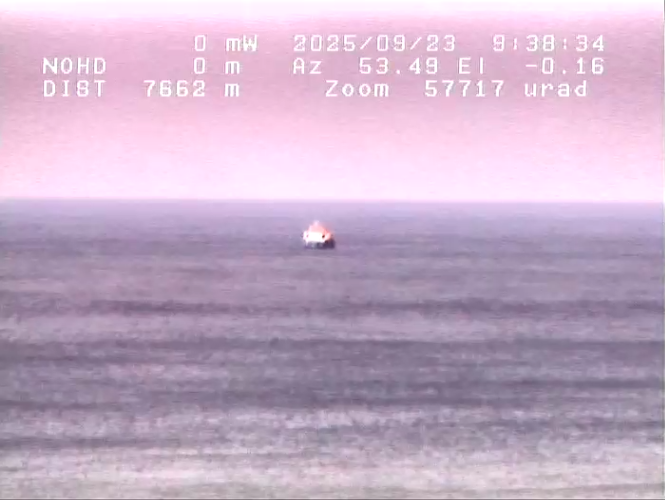TANKER: (288, 212, 354, 260)
